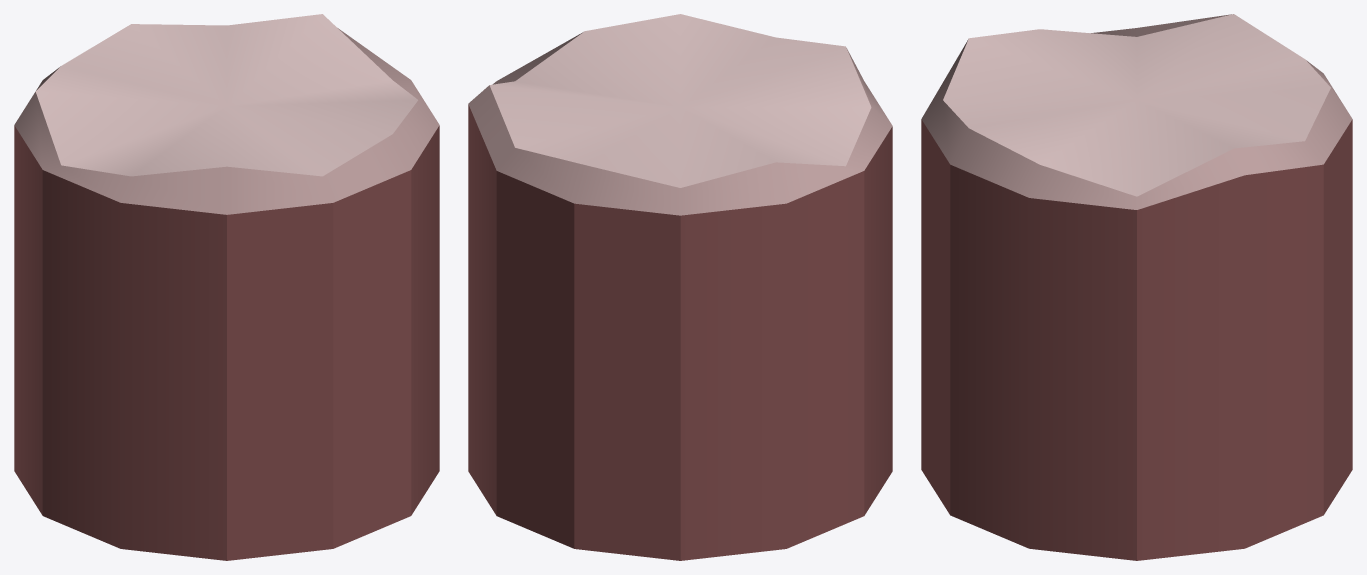
The model's file is kutuk_!.fbx.
3 views of the same model, side by side, from view 1: azimuth 30°, elevation 25°; view 2: azimuth 150°, elevation 25°; view 3: azimuth 270°, elevation 25° (orthographic).
Parts seen in each view (by area): view 1: pCylinder594; view 2: pCylinder594; view 3: pCylinder594.
Part boxes in pixels (x1,y1,x2,y2): pCylinder594: (14, 14, 439, 560); pCylinder594: (468, 14, 892, 560); pCylinder594: (921, 14, 1352, 560).
Bounding box in the file's own units: 8.45 × 8.48 × 8.45.
